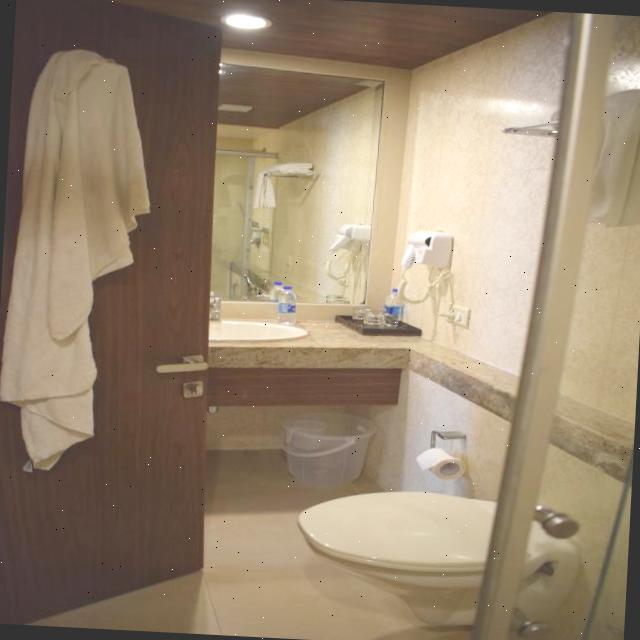clean_floor: (24, 465, 486, 640)
clean_sink: (195, 286, 316, 364)
clean_toilet: (298, 489, 574, 640)
disorganized_towel: (0, 48, 154, 479)
